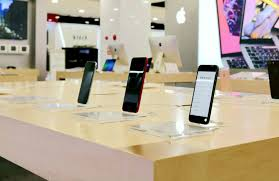mobil: (187, 63, 220, 125), (120, 55, 148, 114), (76, 59, 98, 105)
